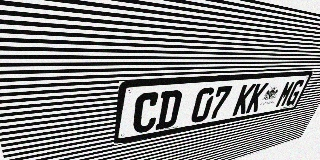0: (189, 87, 216, 124)
7: (207, 86, 233, 121)
C: (131, 92, 161, 134)
D: (155, 90, 183, 130)
G: (284, 79, 306, 106)
K: (232, 84, 256, 116), (245, 82, 269, 113)
M: (274, 80, 296, 108)
